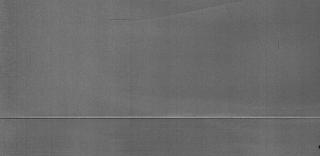welding line: (1, 112, 319, 124)
